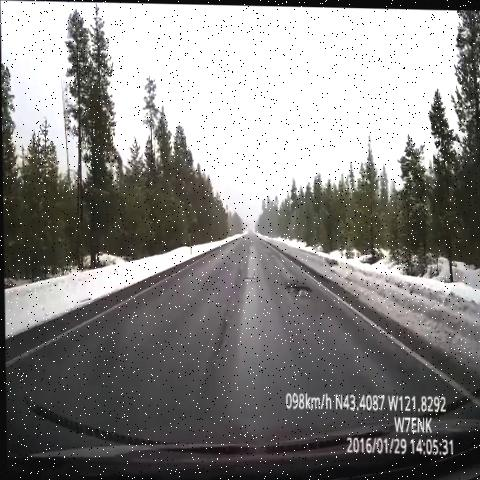pothole: (282, 271, 317, 303), (237, 263, 258, 289)
